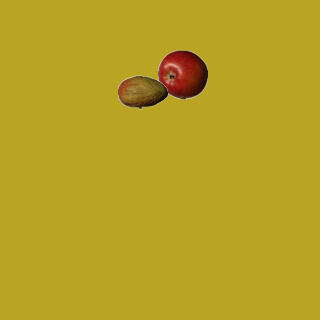Apple Braeburn: (157, 49, 207, 99)
Papaya: (117, 67, 167, 117)
